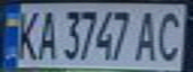3: (60, 6, 81, 61)
4: (93, 7, 118, 61)
7: (112, 7, 136, 61), (78, 7, 96, 61)
A: (133, 7, 163, 63), (33, 7, 60, 61)
C: (151, 7, 190, 63)
K: (12, 7, 42, 62)
